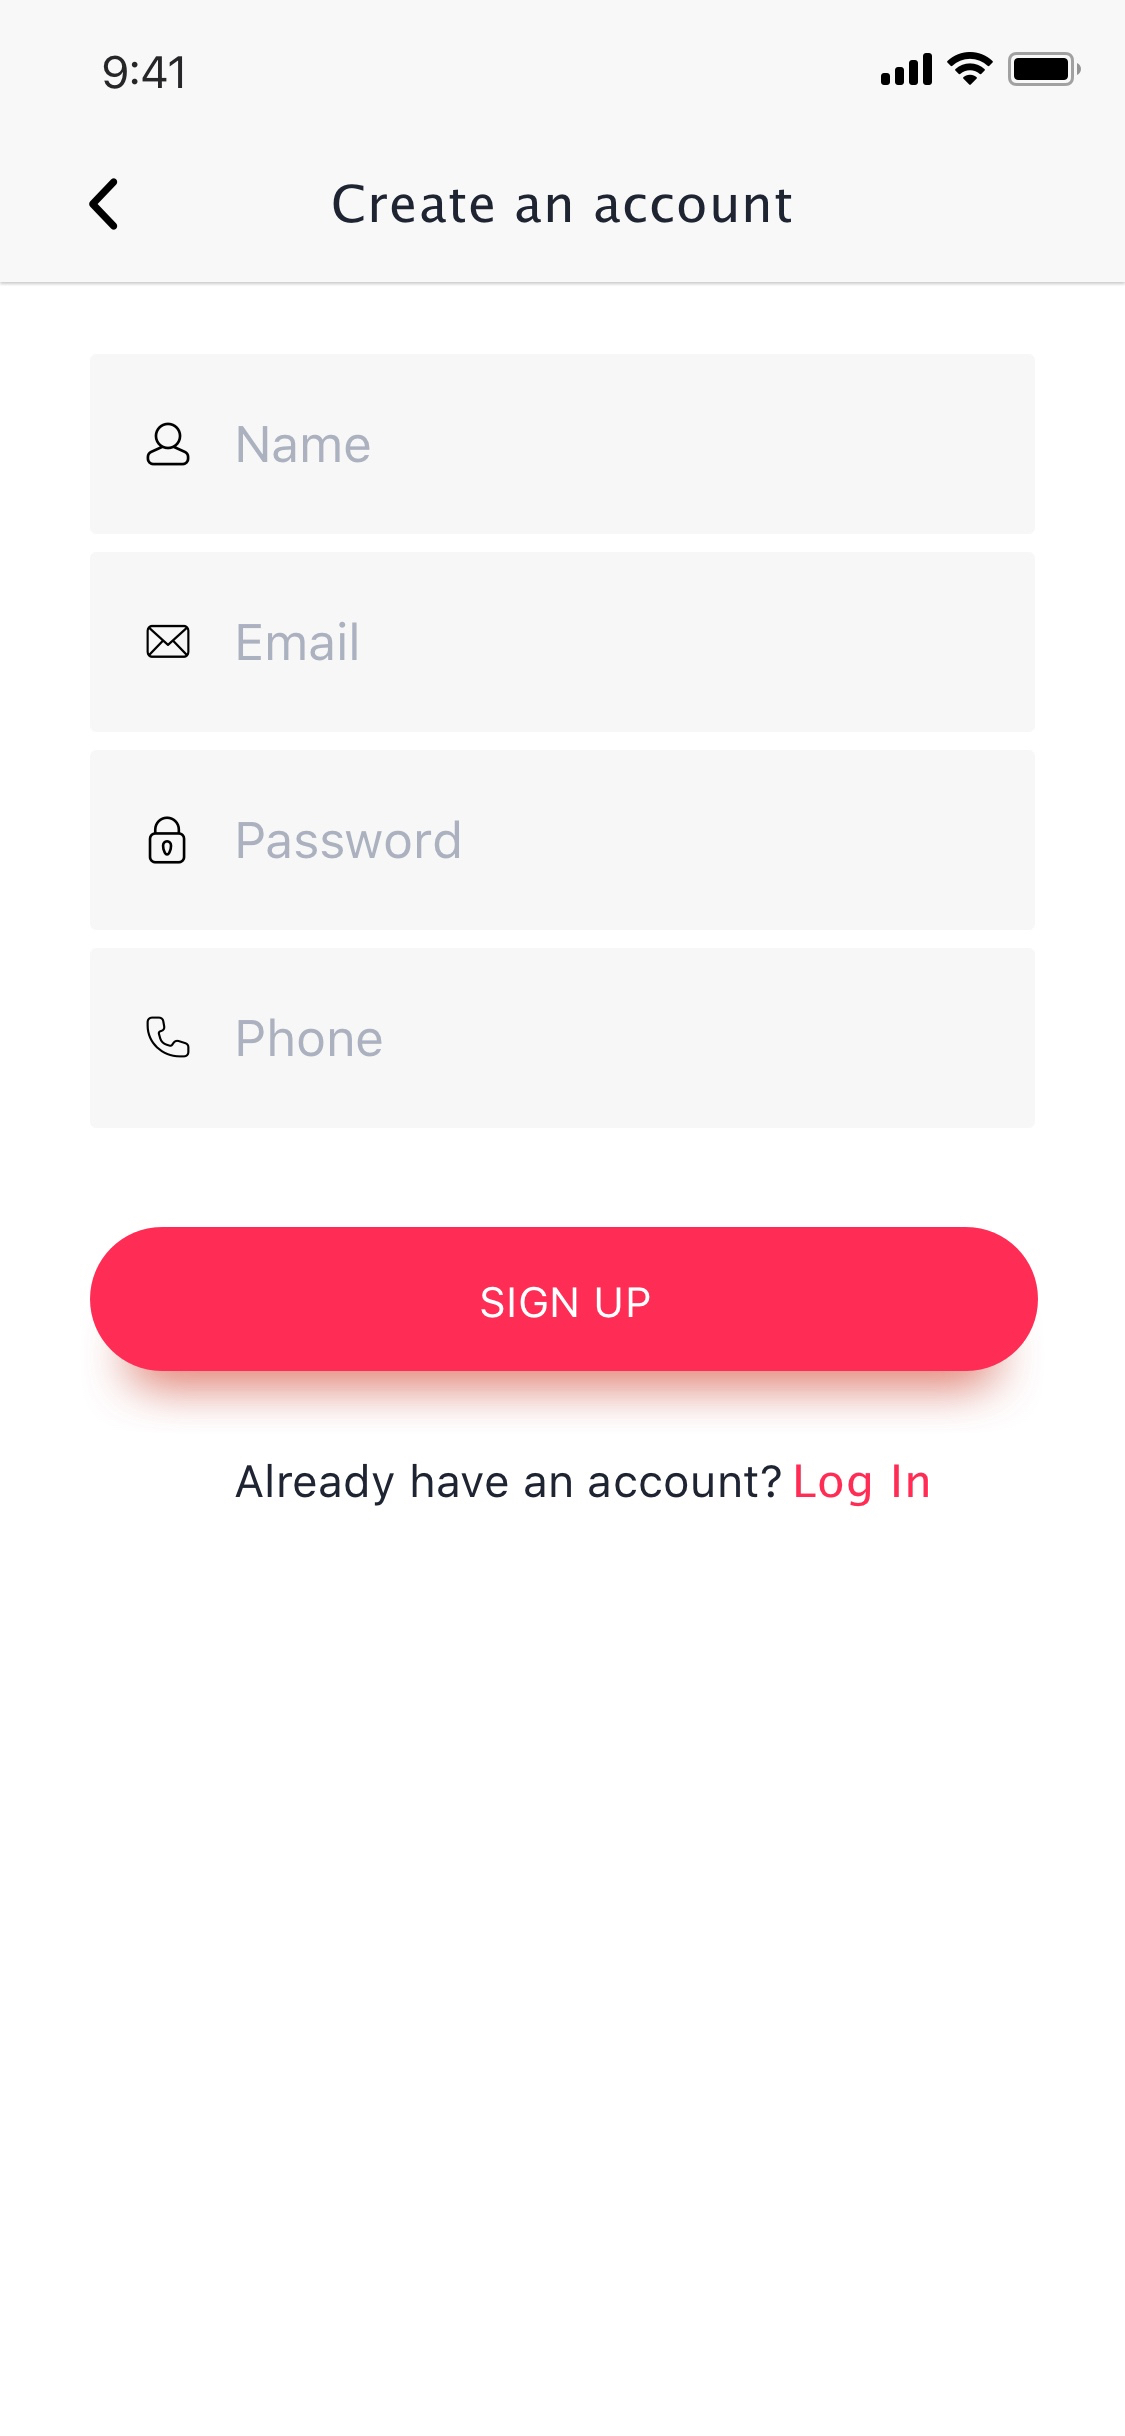EditText: (90, 354, 1036, 536), (90, 552, 1036, 733), (90, 948, 1036, 1129), (90, 750, 1036, 931)
Icon: (146, 423, 191, 468), (148, 816, 186, 865), (89, 179, 120, 231), (146, 625, 191, 659)
Image: (146, 1016, 191, 1060)
Text: (235, 1463, 929, 1509), (333, 183, 792, 225), (238, 820, 460, 861), (238, 1018, 382, 1058), (238, 426, 370, 465), (238, 621, 357, 662)
TextButton: (90, 1227, 1040, 1373)
UpperTaskBar: (104, 51, 1083, 92)
